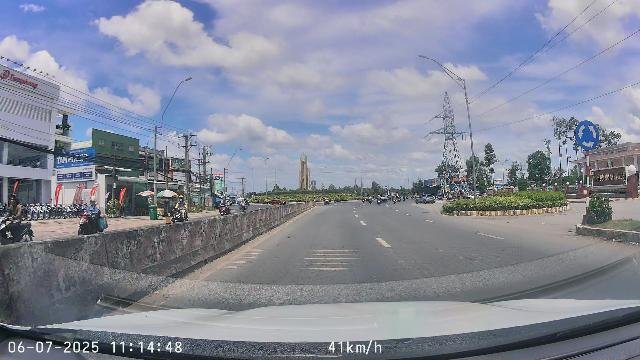303-noi-giao-nhau-chay-theo-vong-xuyen: (575, 120, 599, 151)
